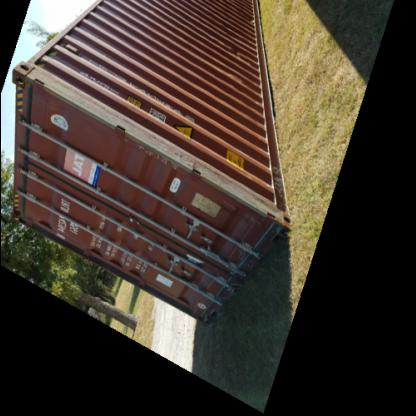Damage: (124, 137, 180, 169), (218, 40, 244, 60), (242, 6, 256, 30)
